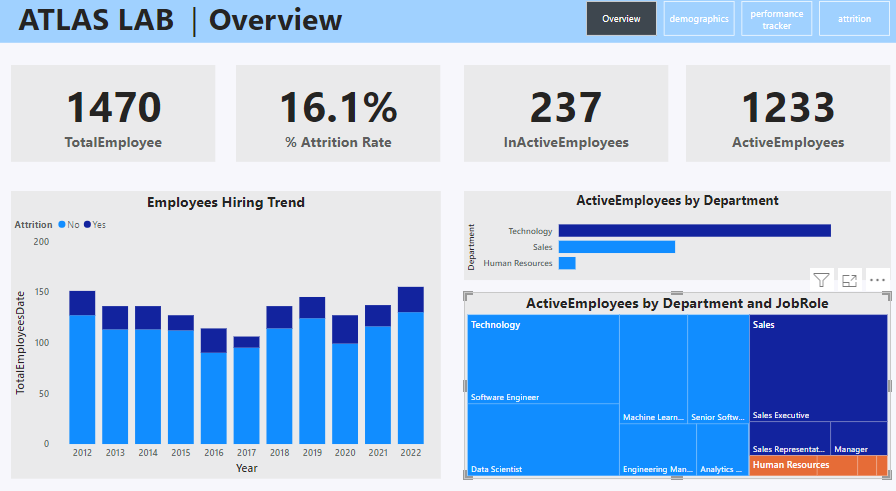

The dashboard page shown, as its layout file describes it:
{"tool":"powerbi","page":{"name":"Overview","canvas":[1280,720],"ordinal":0},"visuals":[{"type":"card","fields":{"Values":["_Measures.TotalEmployee"]},"box":[18.4,100.6,289.1,137.5],"z":0},{"type":"card","fields":{"Values":["_Measures.InActiveEmployees"]},"box":[659.1,100.6,289.1,137.5],"z":1000},{"type":"card","fields":{"Values":["_Measures.ActiveEmployees"]},"box":[973.7,100.6,289.1,137.5],"z":2000},{"type":"card","fields":{"Values":["_Measures.% Attrition Rate"]},"box":[337.3,100.6,289.1,137.5],"z":3000},{"type":"columnChart","title":"Employees Hiring Trend","fields":{"Y":["_Measures.TotalEmployeesDate"],"Category":["DimDate.Date.Variation.Date Hierarchy.Year","DimDate.Date.Variation.Date Hierarchy.Quarter","DimDate.Date.Variation.Date Hierarchy.Month","DimDate.Date.Variation.Date Hierarchy.Day"],"Series":["DimEmployee.Attrition"]},"box":[18.4,279.2,608,406.8],"z":4000},{"type":"clusteredBarChart","fields":{"Y":["_Measures.ActiveEmployees"],"Category":["DimEmployee.Department"]},"box":[659.1,279.2,603.8,126.1],"z":5000},{"type":"treemap","fields":{"Group":["DimEmployee.Department"],"Values":["_Measures.ActiveEmployees"],"Details":["DimEmployee.JobRole"]},"box":[659.1,420.9,603.8,265],"z":6000},{"type":"textbox","box":[0,0,1279.8,69.4],"z":7000},{"type":"pageNavigator","box":[832,9.9,430.9,49.6],"z":8000}]}

Visuals, with their boxes in screenshot pixels (x1, y1, x2, y2), scaled from the page's 1280x720 canvas onto the 896x491 screenshot:
card - _Measures.TotalEmployee: <region>13, 69, 215, 162</region>
card - _Measures.InActiveEmployees: <region>461, 69, 664, 162</region>
card - _Measures.ActiveEmployees: <region>682, 69, 884, 162</region>
card - _Measures.% Attrition Rate: <region>236, 69, 438, 162</region>
"Employees Hiring Trend" columnChart: <region>13, 190, 438, 468</region>
clusteredBarChart - _Measures.ActiveEmployees x DimEmployee.Department: <region>461, 190, 884, 276</region>
treemap - DimEmployee.Department x _Measures.ActiveEmployees: <region>461, 287, 884, 468</region>
textbox: <region>0, 0, 895, 47</region>
pageNavigator: <region>582, 7, 884, 41</region>
